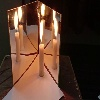fire: (39, 20, 44, 46)
